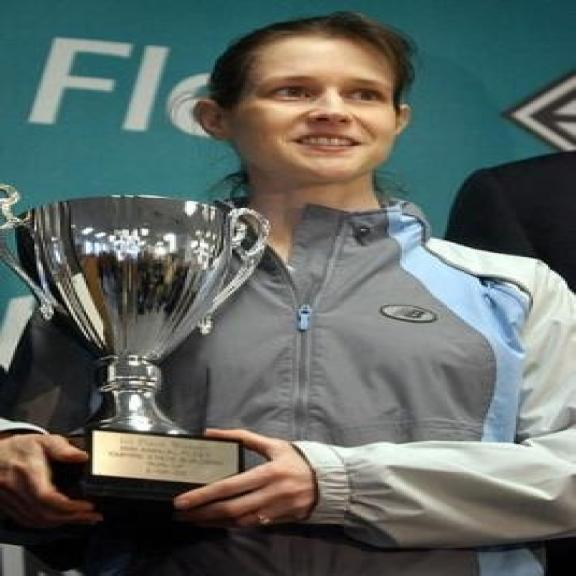face: (186, 22, 420, 190)
